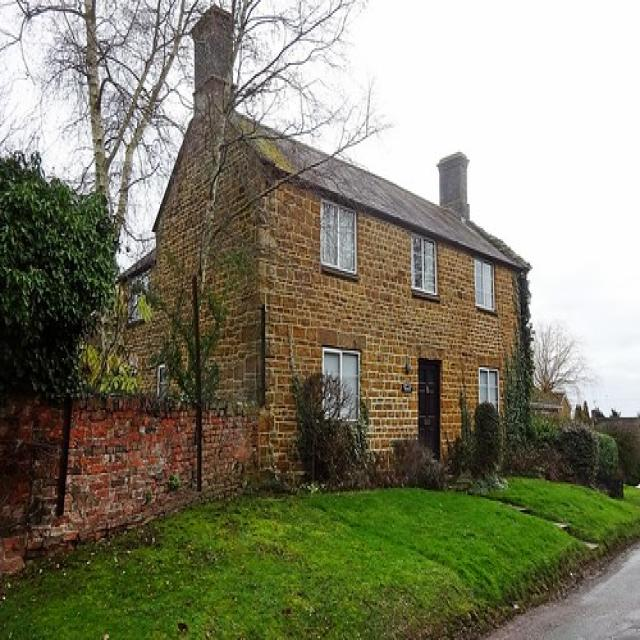building: (109, 21, 536, 484)
